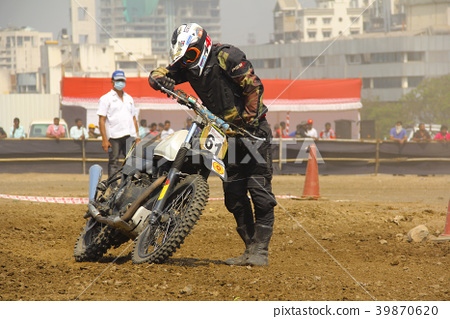helmet: (171, 20, 209, 72)
